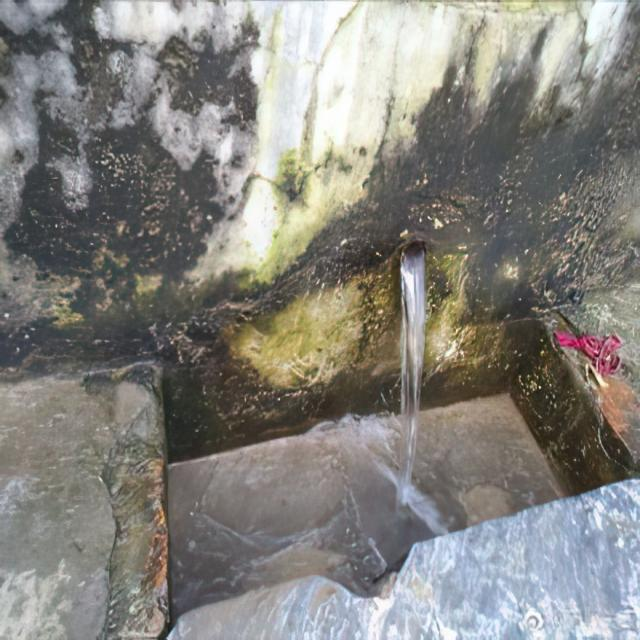leak: (398, 242, 426, 504)
